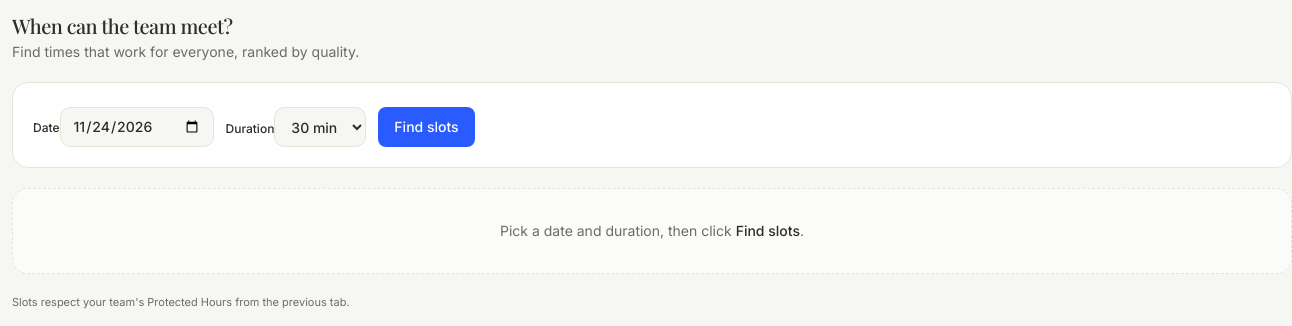
AC-6: Find a time › an answer after 20 s shows the real slots — never mock slots — with 'still working' meanwhile
Later steps or results of the test are not shown.
What coordinates should you click on to do the following:
click the button "Find slots"
I would click on:
 (427, 127)
Its box is [378,107,475,147].
Wait 21000 ms
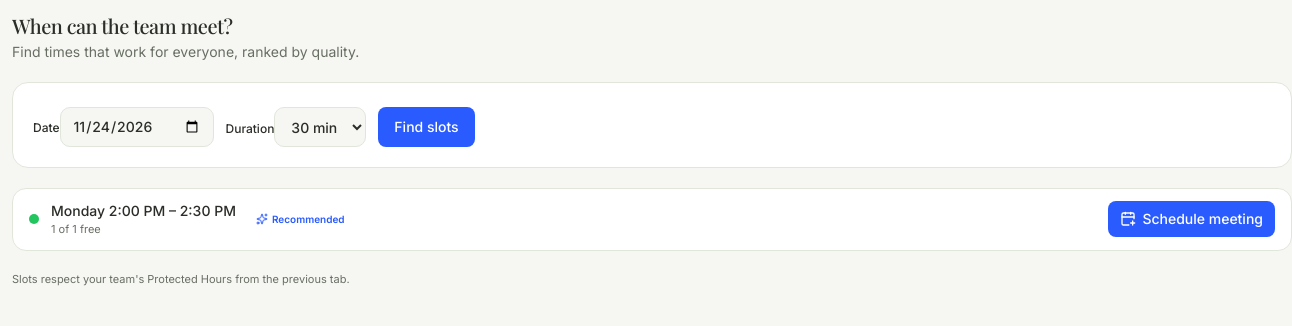
Expected: the text "1 of 1 free" is shown, [51,222,101,236]
Expected: the button "Schedule meeting" is shown, [1108,201,1275,237]
